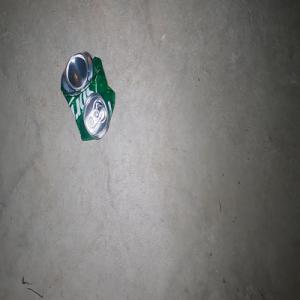SodaCan: (60, 50, 115, 141)
